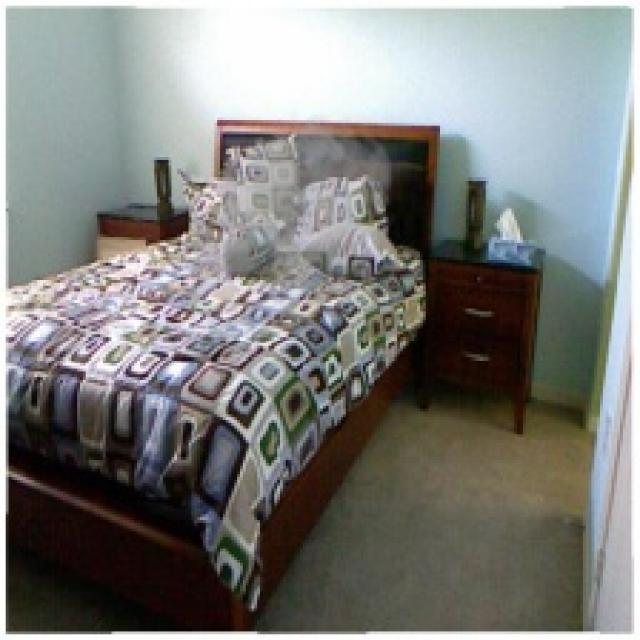smoke: (174, 106, 400, 337)
